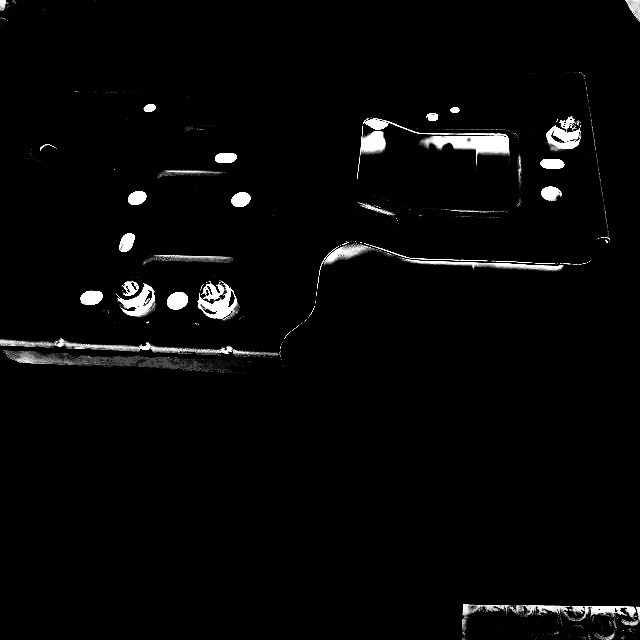dog: (196, 275, 239, 321), (113, 273, 155, 317), (545, 114, 585, 150)
